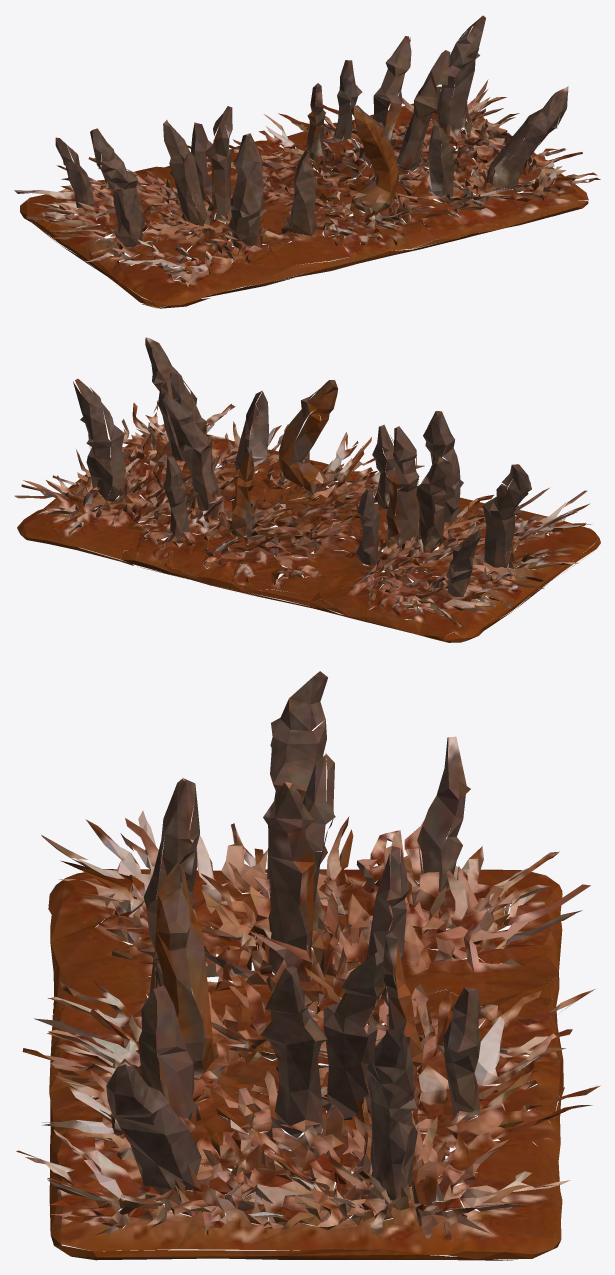
The model's file is wt-wasteland-bone-spikes.glb.
3 views of the same model, one above another, from view 1: azimuth 30°, elevation 25°; view 2: azimuth 150°, elevation 25°; view 3: azimuth 270°, elevation 25° (orthographic). The views are drawn at different scales.
Parts seen in each view (by area): view 1: tmpccej3xtr.ply; view 2: tmpccej3xtr.ply; view 3: tmpccej3xtr.ply.
Part boxes in pixels (left/top/right/bottom): tmpccej3xtr.ply: left=14, top=15, right=600, bottom=308; tmpccej3xtr.ply: left=14, top=337, right=600, bottom=642; tmpccej3xtr.ply: left=16, top=671, right=600, bottom=1260.
Size of the model in its own units: 4.35 by 1.09 by 2.59.
Materials: 1 (1 with a texture image).
